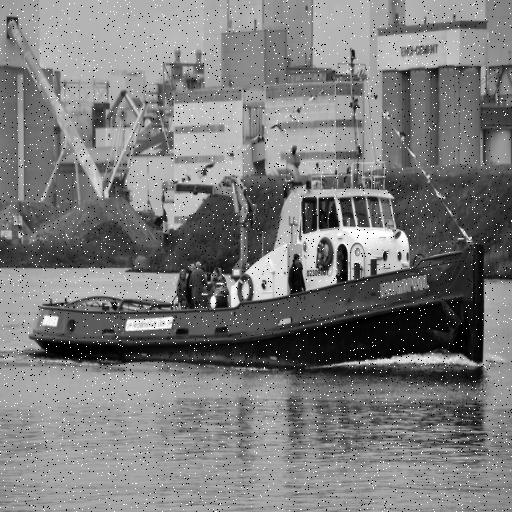tugboat: (27, 150, 488, 376)
